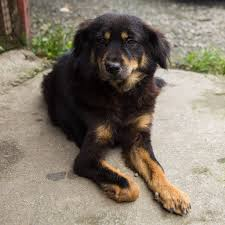dog: (64, 4, 182, 113)
